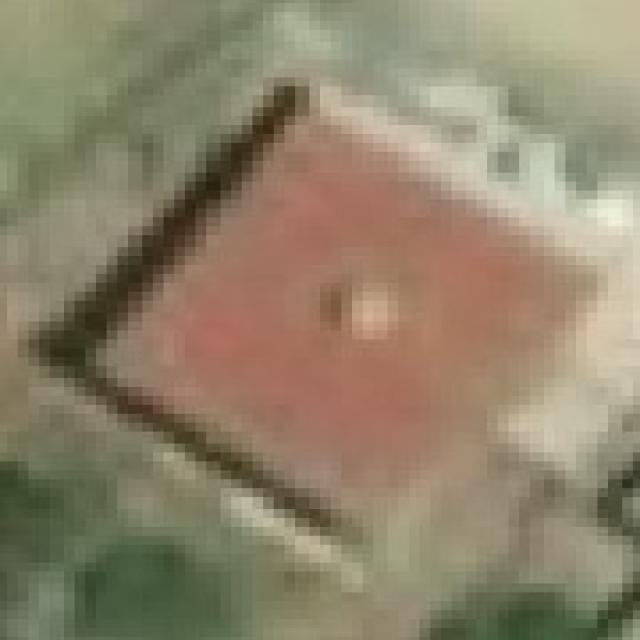Batiment: (115, 113, 596, 575)
